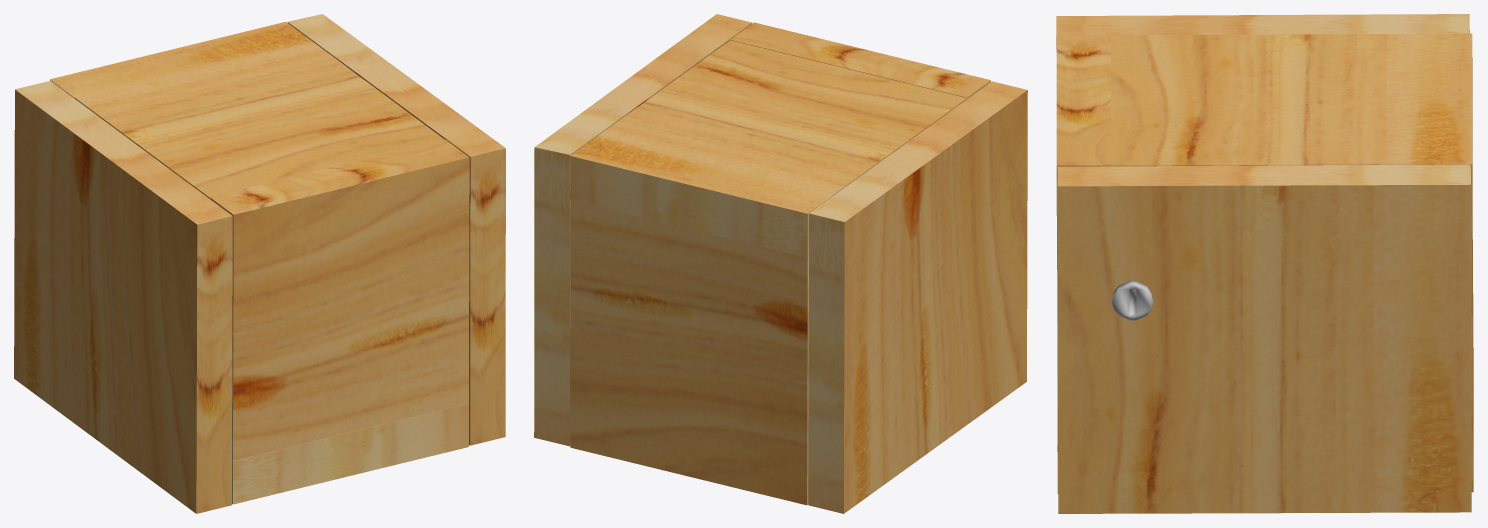
Rendered from KeyBox.fbx.
3 views of the same model, side by side, from view 1: azimuth 30°, elevation 25°; view 2: azimuth 150°, elevation 25°; view 3: azimuth 270°, elevation 25° (orthographic). The views are drawn at different scales.
Parts seen in each view (by area): view 1: KeyBox, KeyBox(door); view 2: KeyBox, KeyBox(door); view 3: KeyBox(door), KeyBox, KeyBox(Key).
Part boxes in pixels (<box>): KeyBox: <box>14,21,469,513</box>; KeyBox(door): <box>287,14,505,445</box>; KeyBox: <box>570,22,1027,513</box>; KeyBox(door): <box>534,14,752,446</box>; KeyBox(door): <box>1057,164,1471,513</box>; KeyBox: <box>1056,14,1473,493</box>; KeyBox(Key): <box>1112,280,1152,320</box>.
Bounding box in the file's own units: 46.61 × 41.28 × 47.09.
